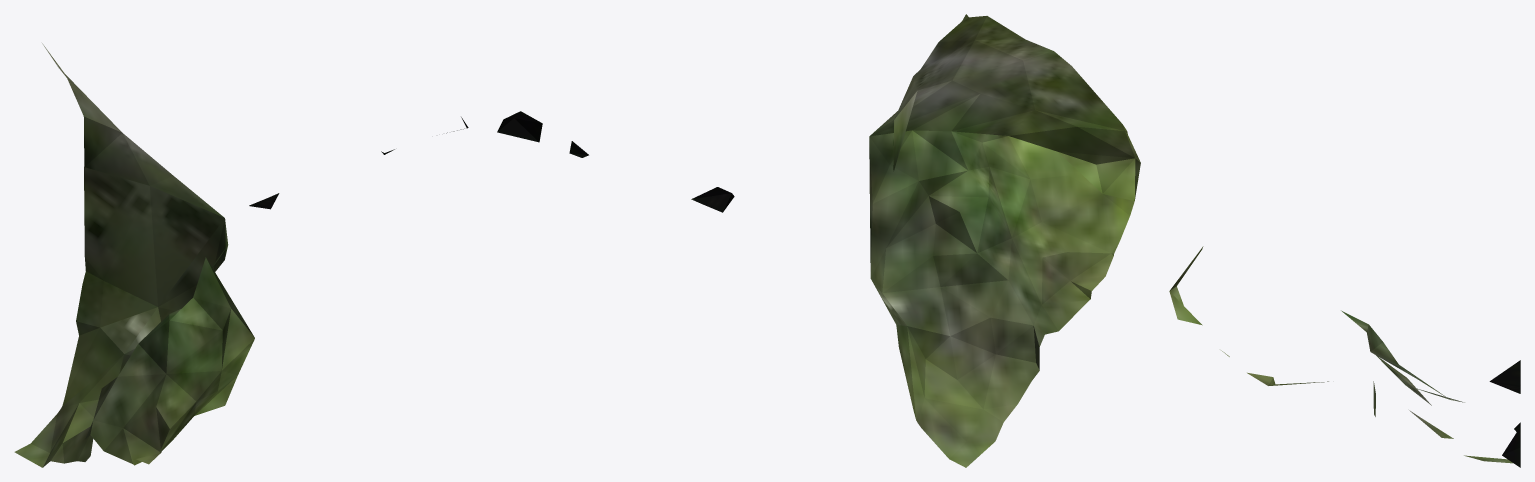
3 renders of one model, left to right at view 1: azimuth 30°, elevation 25°; view 2: azimuth 150°, elevation 25°; view 3: azimuth 270°, elevation 25°, orthographic. The views are drawn at different scales.
Size of the model in its own units: 9.98 by 9.23 by 6.58.
Materials: 1 (1 with a texture image).
